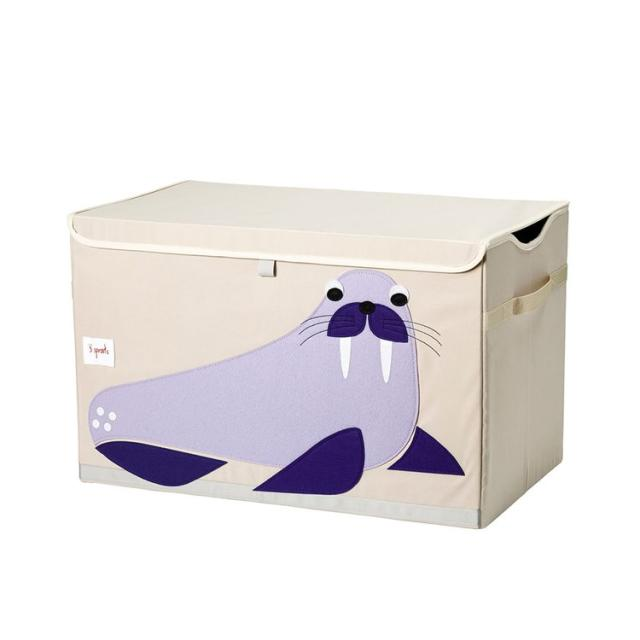walrus: (86, 267, 428, 492)
